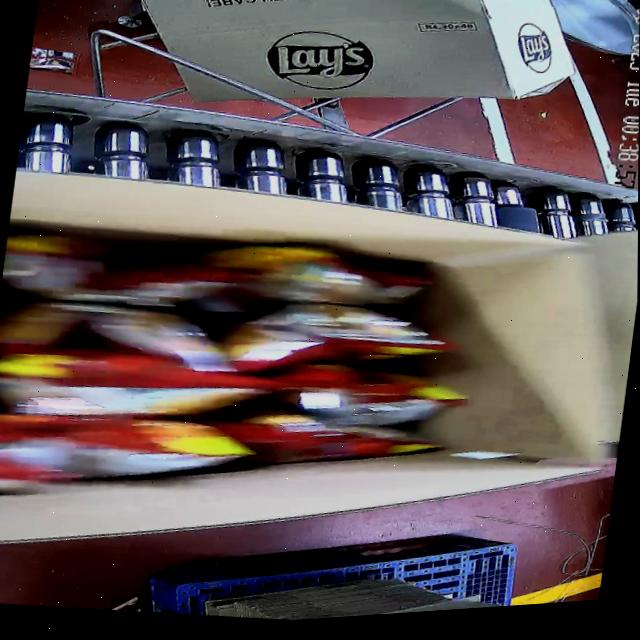MASALA: (0, 194, 487, 537)
